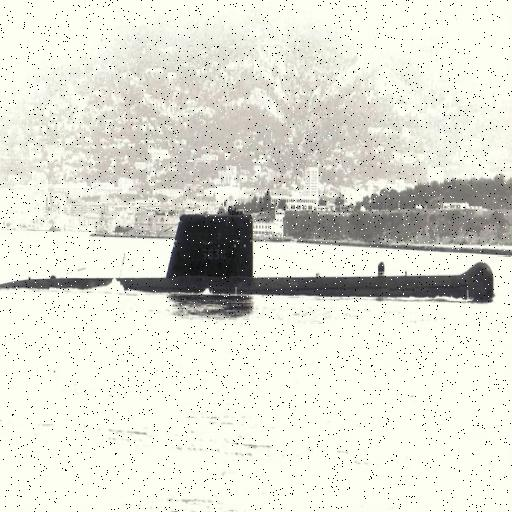submarine: (1, 212, 512, 287)
